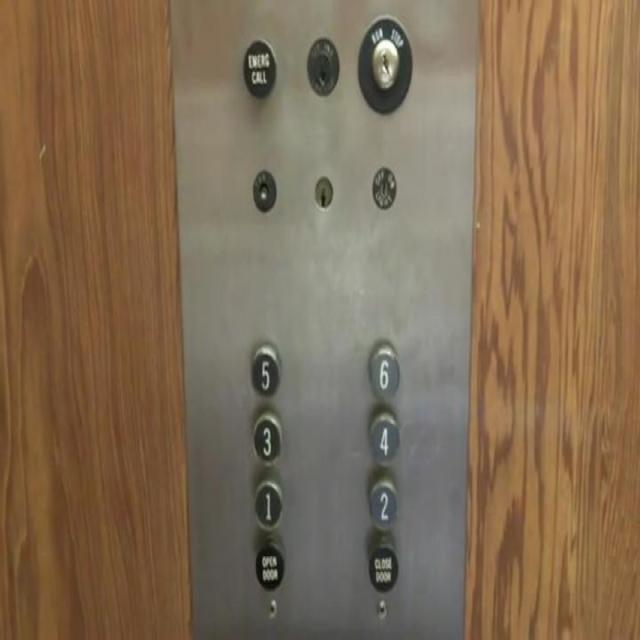1: (251, 474, 283, 534)
2: (366, 475, 400, 532)
3: (250, 405, 283, 464)
4: (367, 407, 400, 469)
5: (249, 340, 281, 399)
6: (366, 336, 400, 400)
keyhole: (354, 11, 414, 120), (304, 32, 339, 101), (369, 160, 398, 215), (250, 165, 277, 218), (312, 169, 336, 212)
text_close: (366, 538, 399, 594)
text_emege call: (239, 33, 278, 104)
text_open hold: (252, 538, 284, 594)
